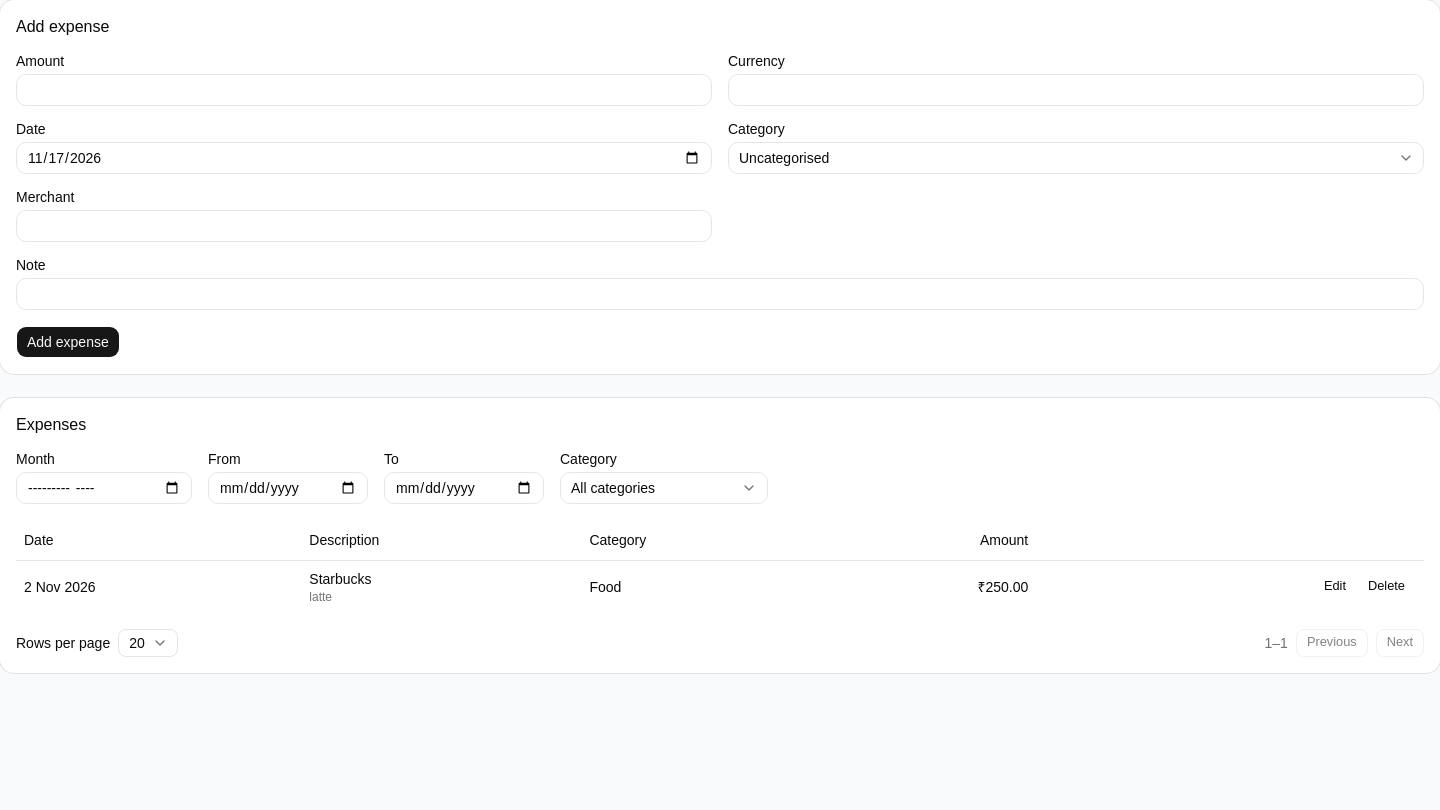
Test: a backend error is shown and the dialog stays open
The width and height of the screenshot is (1440, 810).
What coordinates should you click on to do the following:
click the button with aria-label "Edit Starbucks"
I would click on:
 (1335, 586)
Its box is [1313,572,1357,600].
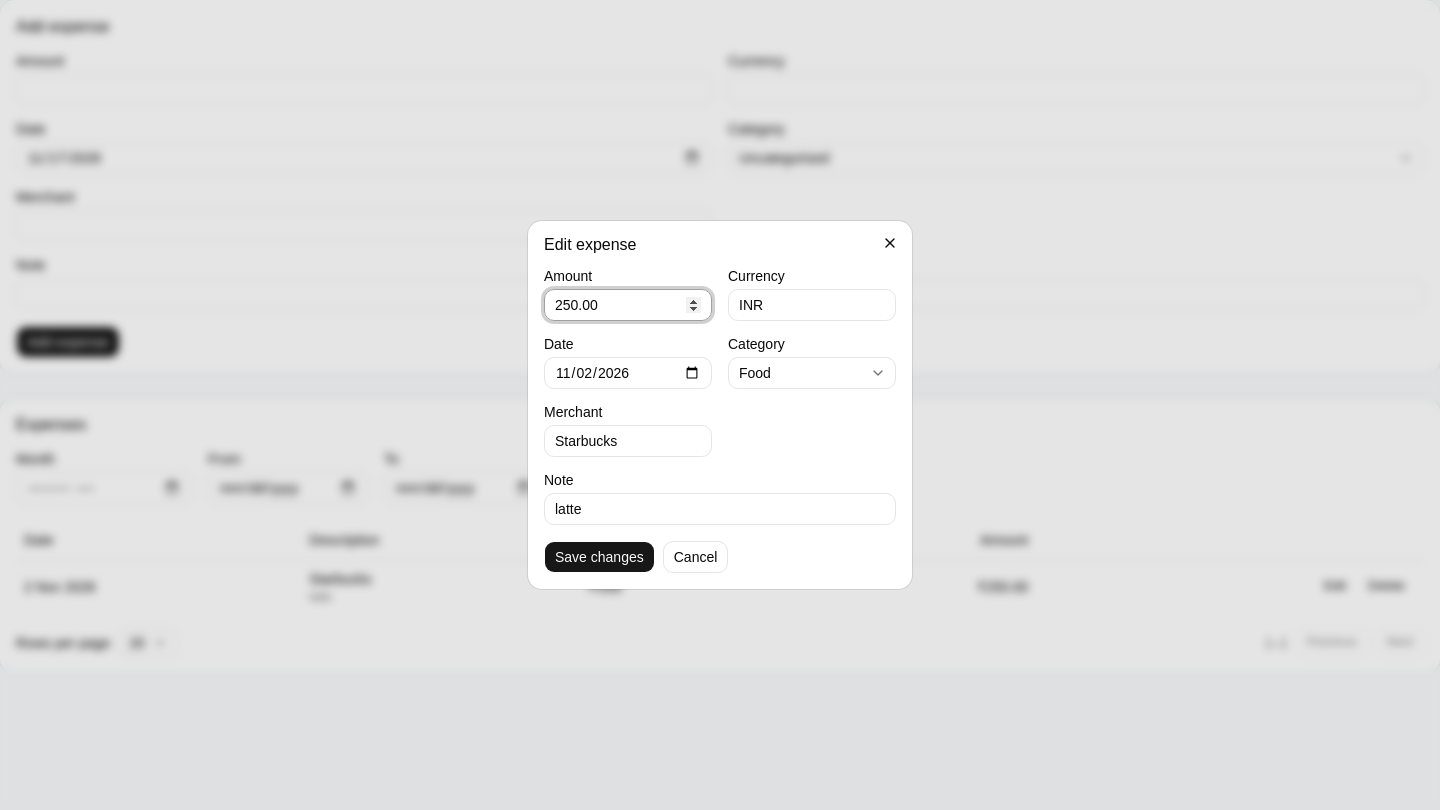
What coordinates should you click on to do the following:
click the button "Save changes"
I would click on:
 (599, 557)
Its box is [544,541,655,573].
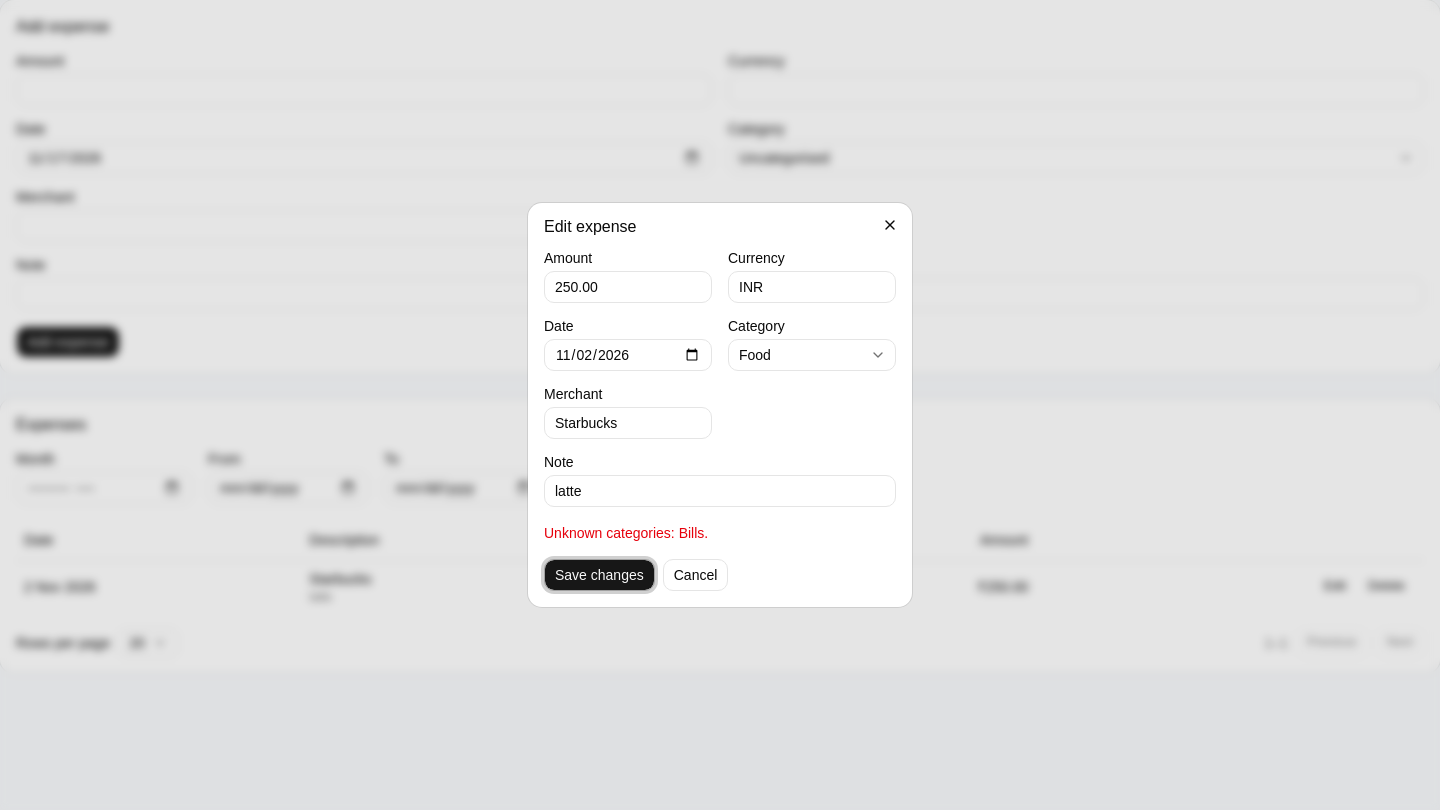
Expected: the dialog "Edit expense" is shown, [528,203,912,607]
Expected: the message reads "Unknown categories: Bills.", [544,525,708,541]
